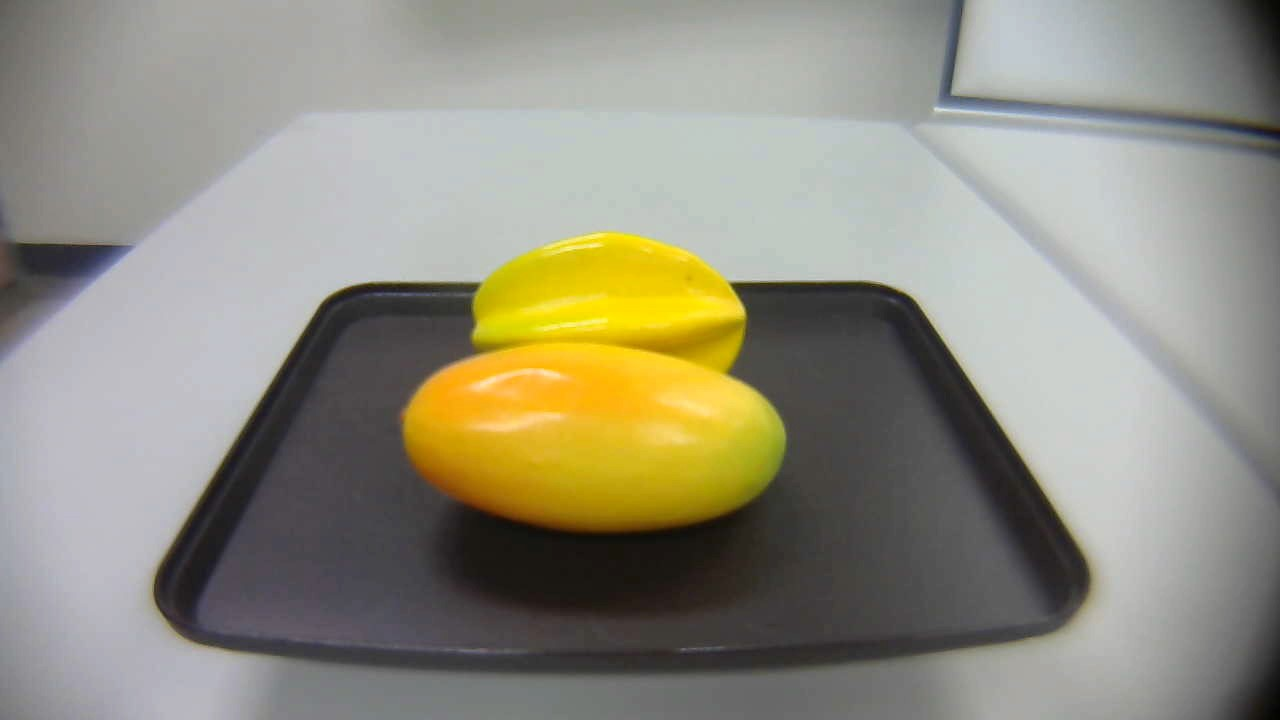star fruit: (464, 232, 752, 390)
yellow mango: (396, 335, 797, 543)
